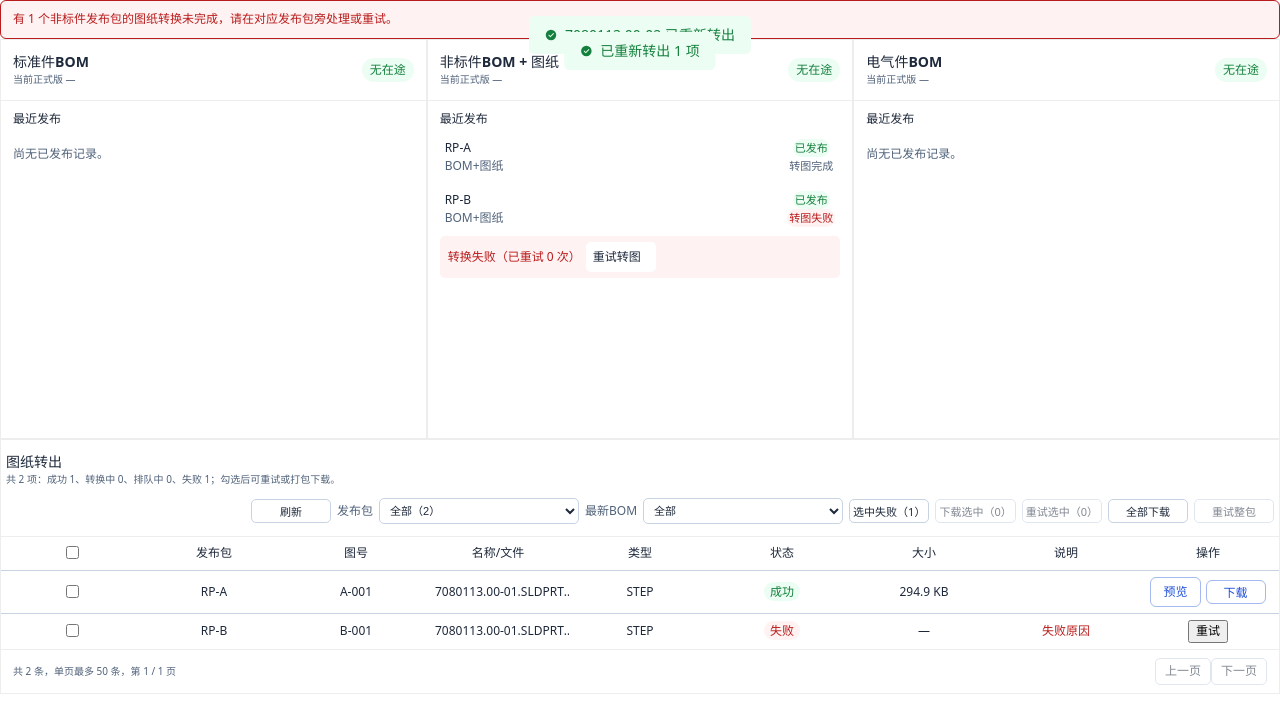
ReleaseOverview › filters conversion details by release package
Expected: the table shows "A-001", [340,583,372,600]
Expected: the table shows "B-001", [340,622,372,639]
Select "RP-B" in the dropdown named "按发布包筛选" at (479, 511), box [379,498,579,524]
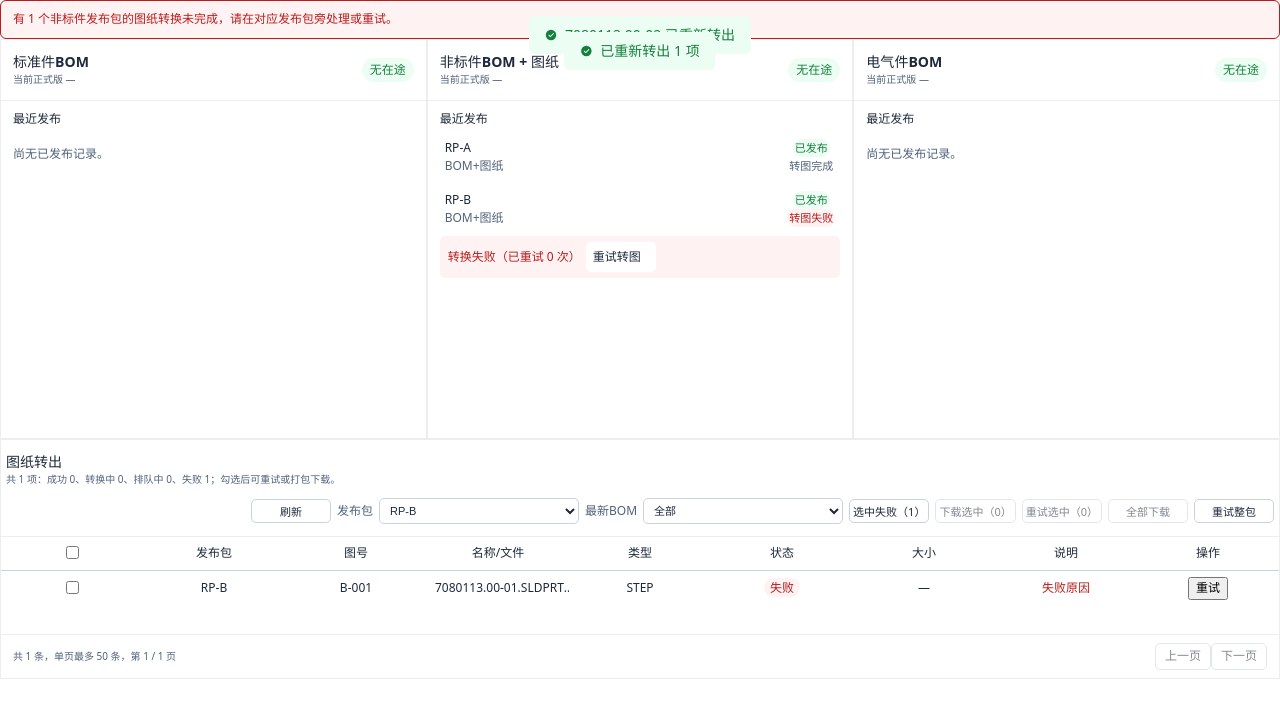
Expected: the table shows "B-001", [340,579,372,596]
Result: the cell no longer shows "A-001"
Result: the button "重试整包" is enabled at [1194,499,1274,523]
